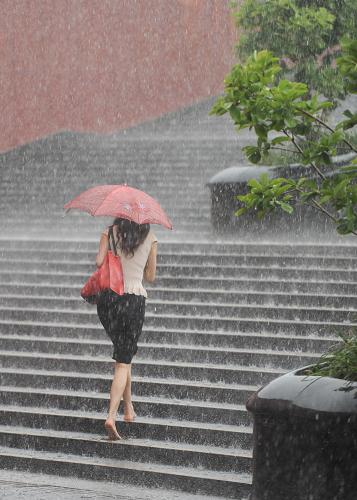handbag: (77, 227, 123, 305)
person: (90, 214, 157, 443)
umbrella: (63, 177, 177, 237)
